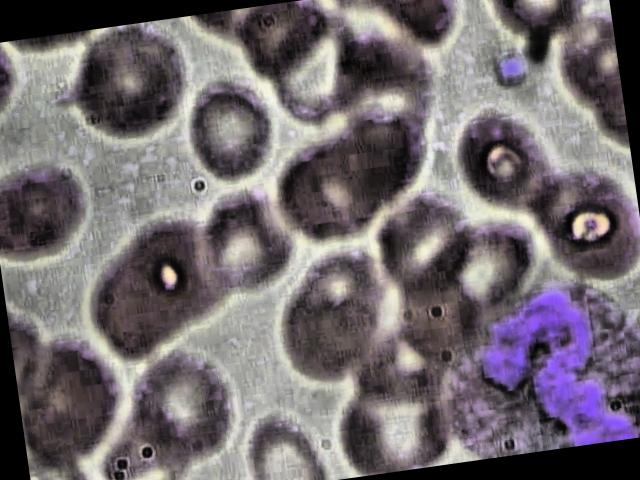Platelets: (488, 48, 531, 94)
RBC: (49, 18, 199, 156), (114, 336, 254, 466), (513, 154, 640, 290), (326, 362, 462, 480), (321, 29, 448, 152), (186, 176, 298, 304), (368, 180, 482, 295), (451, 102, 563, 216), (176, 74, 282, 191), (0, 150, 92, 266), (229, 404, 337, 480)
WBC: (432, 263, 640, 463)
